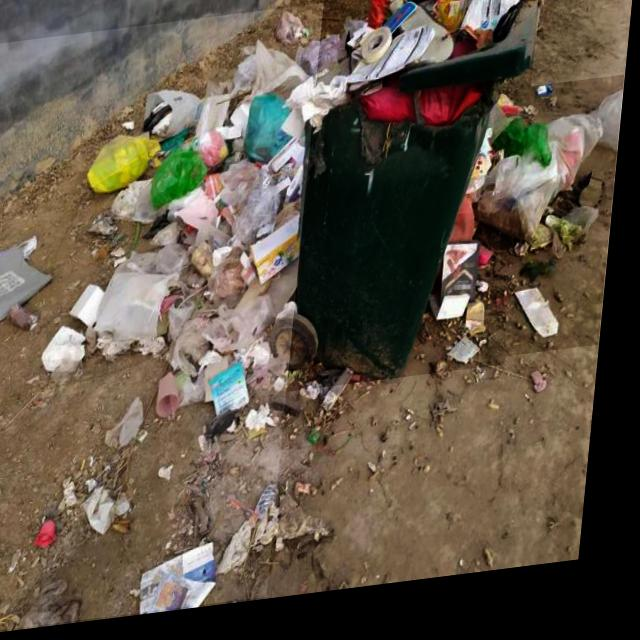garbage: (0, 11, 325, 638), (432, 92, 627, 379)
overflow: (288, 0, 543, 401)
